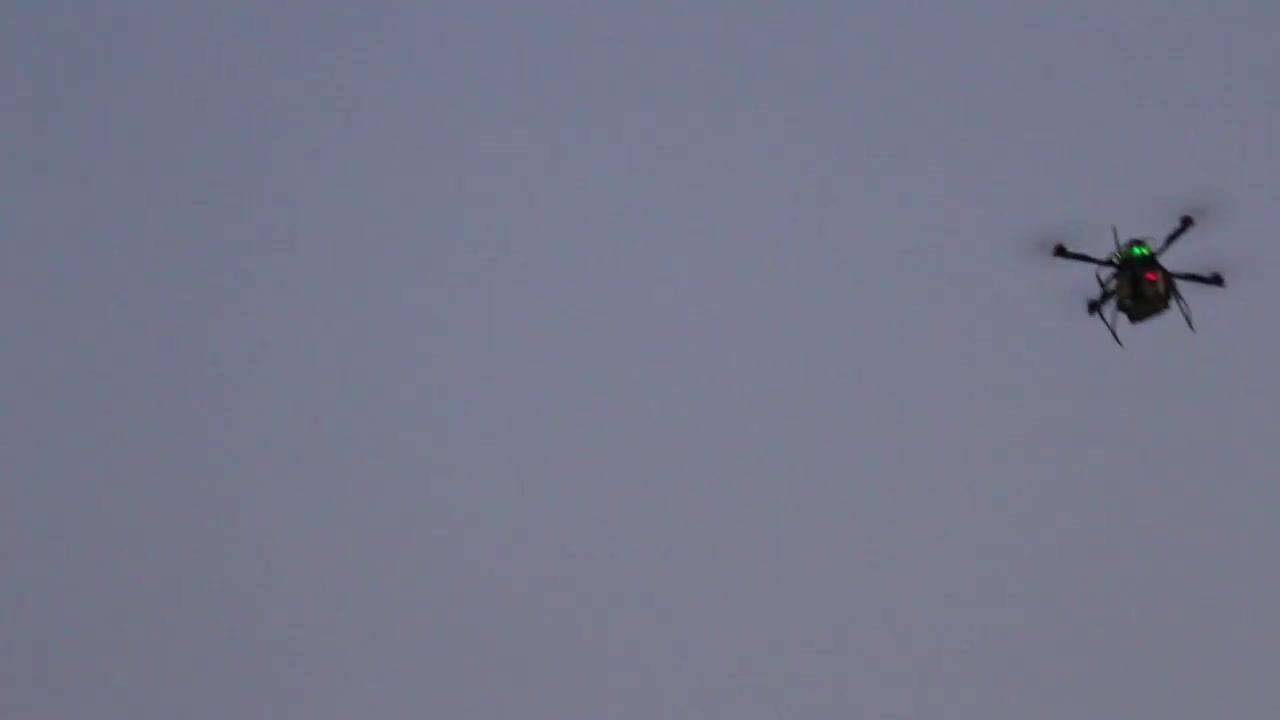UAV: (1051, 212, 1228, 349)
